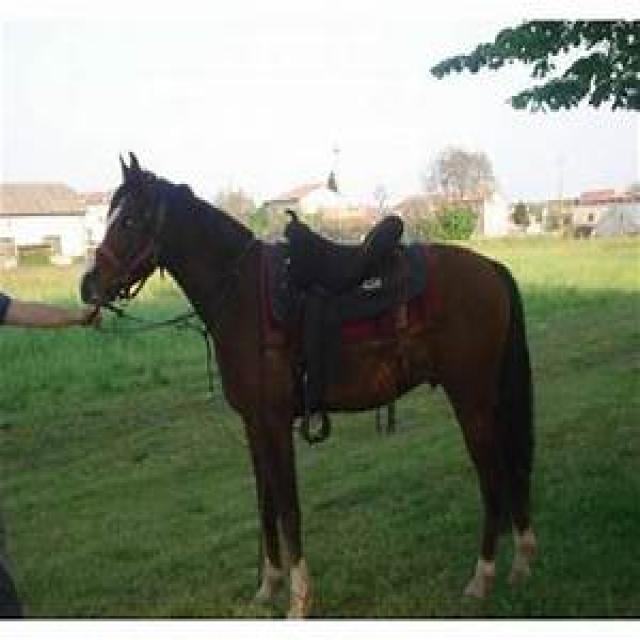horse: (4, 155, 540, 619)
